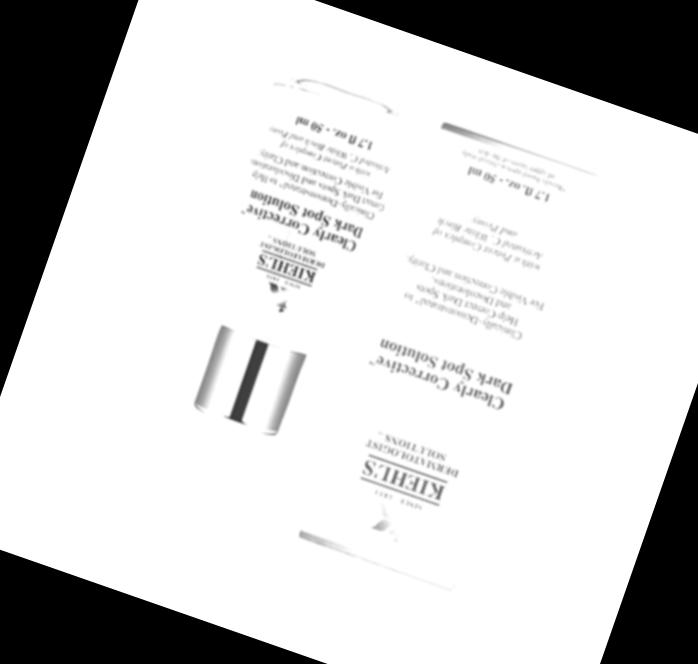cosmetic: (140, 80, 406, 516)
